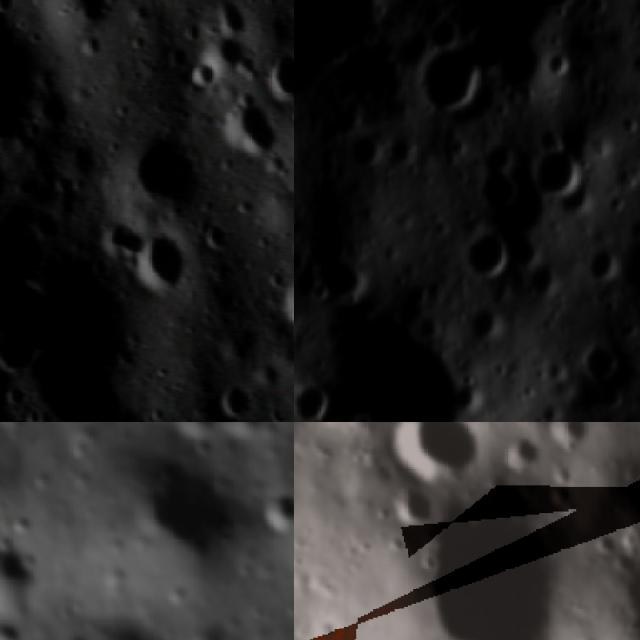crater: (112, 435, 250, 578), (429, 502, 562, 640), (418, 39, 494, 118), (390, 422, 488, 477), (133, 133, 200, 206), (0, 544, 48, 630), (311, 248, 375, 306), (136, 221, 188, 292), (479, 140, 528, 208), (252, 476, 294, 543), (537, 149, 586, 202), (468, 228, 509, 286), (386, 481, 436, 528), (232, 96, 272, 154), (0, 79, 42, 133), (579, 342, 633, 383), (180, 41, 222, 93), (294, 374, 335, 422), (506, 430, 548, 473), (448, 375, 484, 417), (268, 51, 294, 107), (544, 44, 578, 85), (220, 376, 248, 420), (547, 422, 591, 447), (592, 522, 618, 558)
